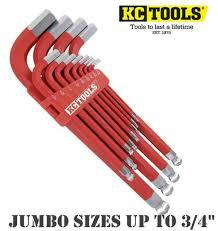wrench: (29, 51, 135, 181), (43, 52, 137, 170), (53, 53, 134, 155), (62, 54, 137, 150), (69, 56, 140, 141), (74, 57, 139, 131), (83, 57, 139, 128), (7, 8, 56, 86), (86, 56, 139, 122), (32, 13, 72, 66), (53, 16, 87, 58), (66, 22, 96, 55)
